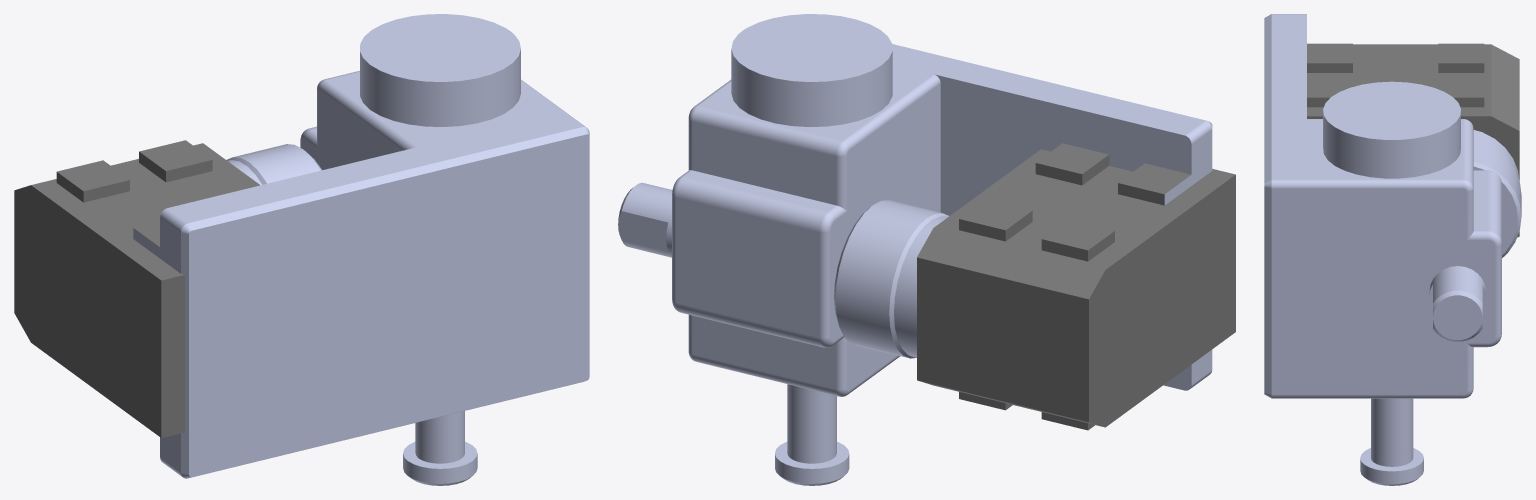
The model's file is wrist_link.dae.
3 views of the same model, side by side, from view 1: azimuth 30°, elevation 25°; view 2: azimuth 150°, elevation 25°; view 3: azimuth 270°, elevation 25° (orthographic). The views are drawn at different scales.
Visible parts, largest first — view 1: _3DGeom-122, _3DGeom-121; view 2: _3DGeom-122, _3DGeom-121; view 3: _3DGeom-122, _3DGeom-121.
Part boxes in pixels (x1,y1,x2,y2): _3DGeom-122: [133, 14, 589, 485]; _3DGeom-121: [14, 140, 259, 437]; _3DGeom-122: [618, 14, 1212, 485]; _3DGeom-121: [917, 143, 1235, 430]; _3DGeom-122: [1264, 14, 1521, 485]; _3DGeom-121: [1307, 43, 1519, 237].
Size of the model in its own units: 0.0687 by 0.0362 by 0.0565.
